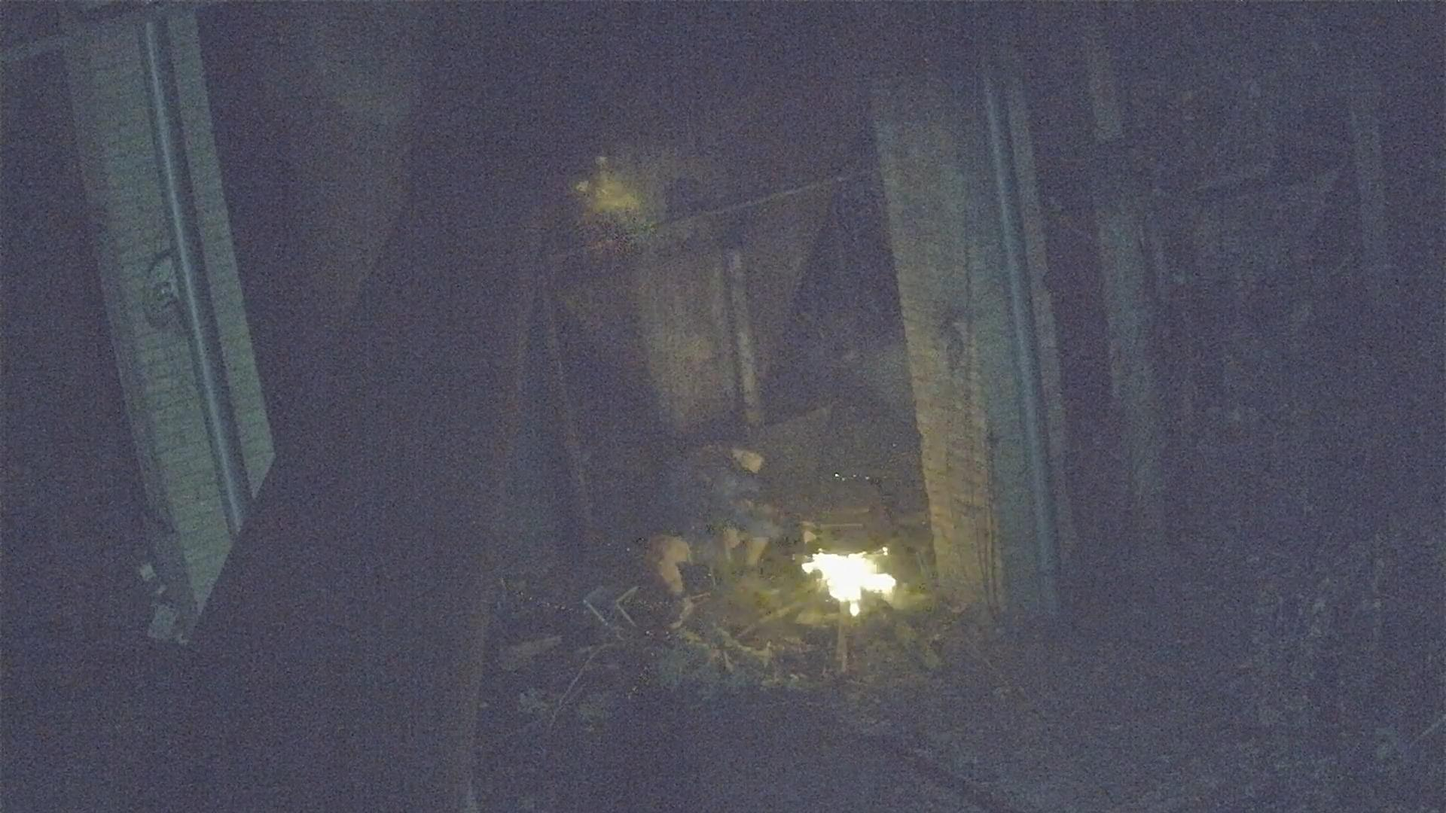fire: (803, 553, 895, 614)
